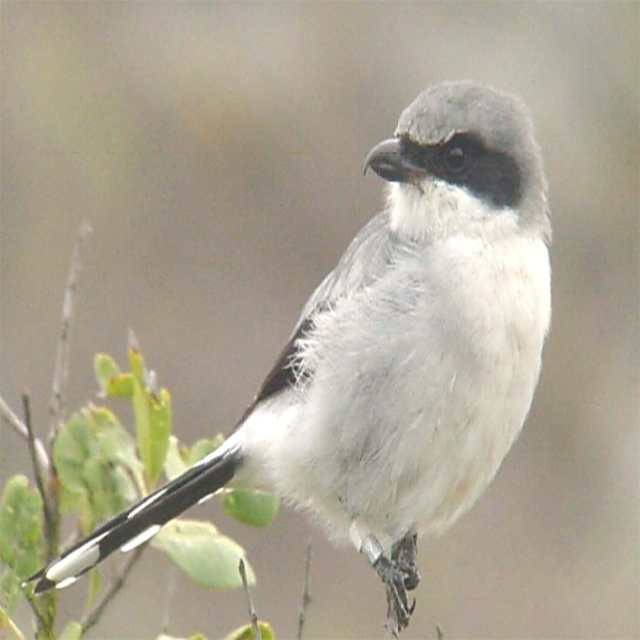Sparrow: (24, 81, 552, 640)
